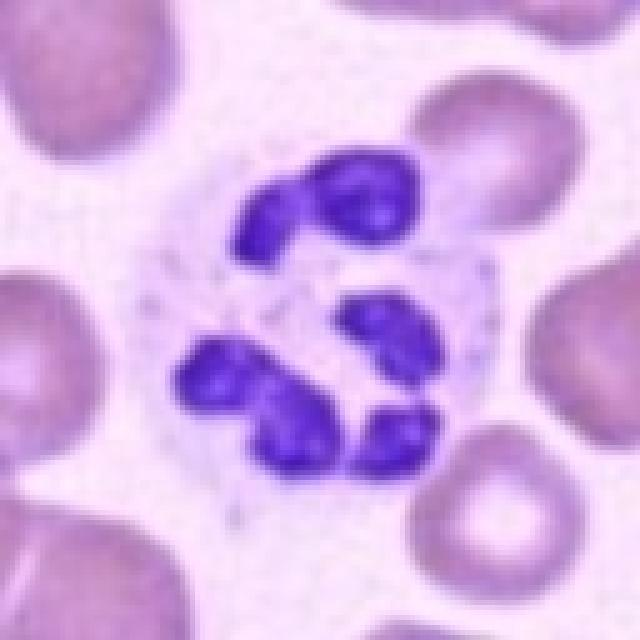neutro: (134, 111, 537, 545)
